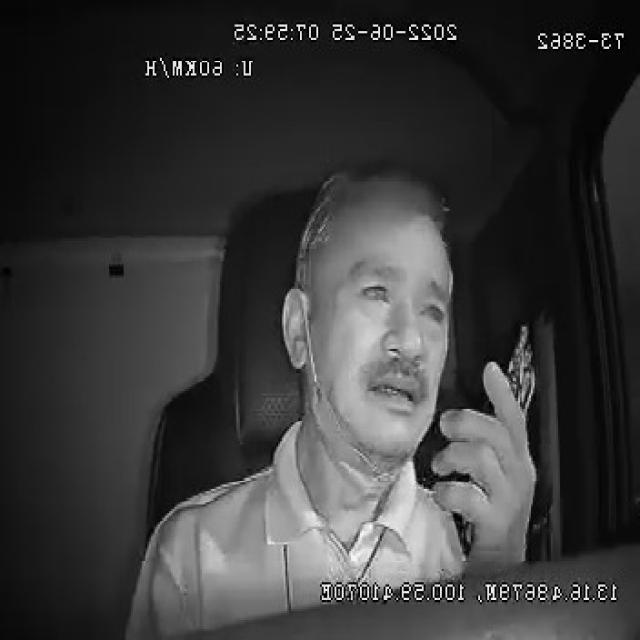phone: (449, 319, 540, 558)
